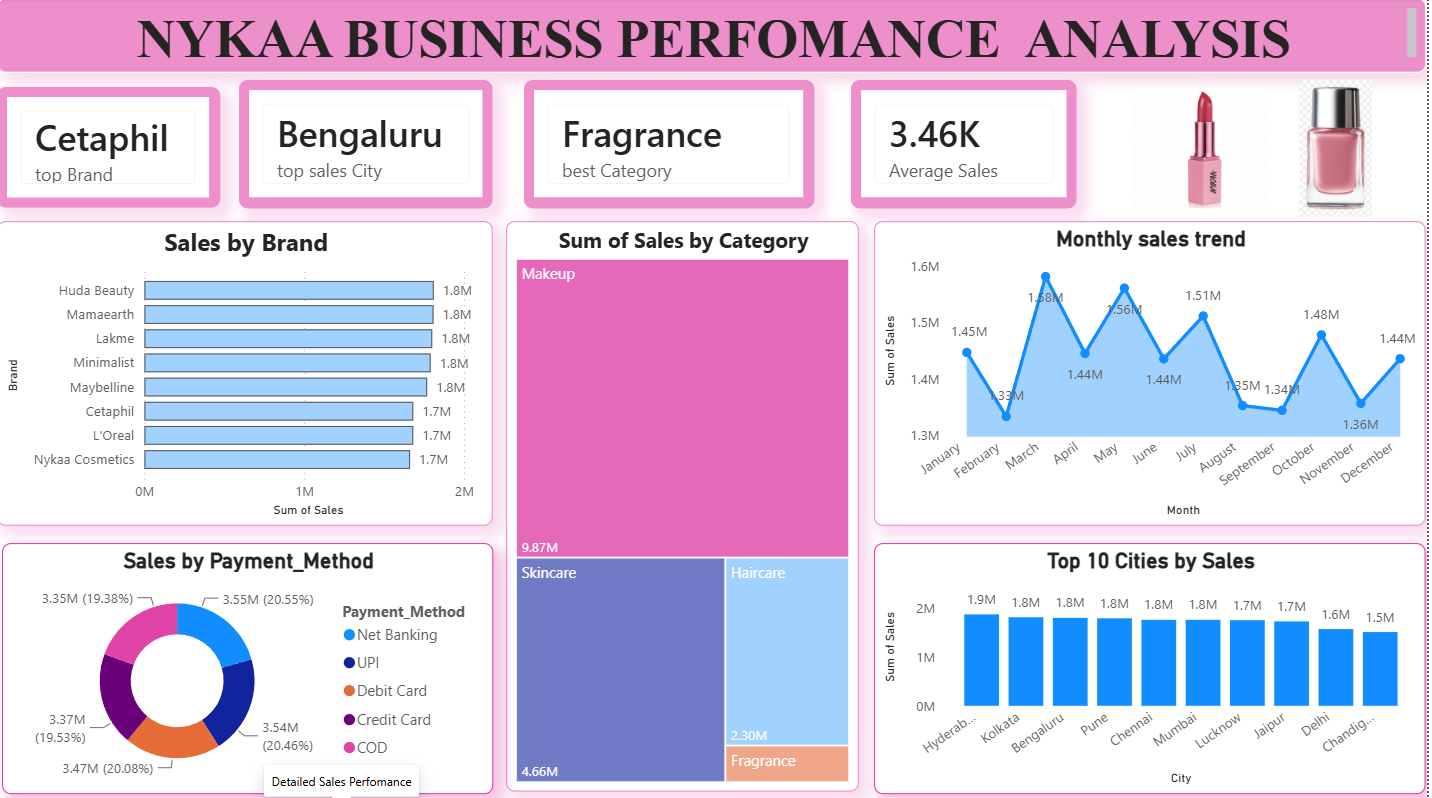

Layout of this report page (visuals, bound fields, positions):
{"tool":"powerbi","page":{"name":"Detailed Sales Perfomance","canvas":[1280,720],"ordinal":1},"visuals":[{"type":"textbox","box":[0,0,1279.7,67.2],"z":0},{"type":"cardVisual","fields":{"Data":["Min(Sales.Brand)"]},"box":[0,79.7,199.7,108.4],"z":1000},{"type":"cardVisual","fields":{"Data":["Min(Sales.City)"]},"box":[216.7,73.4,227.5,114.6],"z":2000},{"type":"cardVisual","fields":{"Data":["Min(Sales.Category)"]},"box":[471.9,73.4,259.7,114.6],"z":3000},{"type":"cardVisual","fields":{"Data":["Avg(Sales.Sales)"]},"box":[764.8,73.4,202.4,114.6],"z":4000},{"type":"clusteredBarChart","title":" Sales by Brand","fields":{"Category":["Sales.Brand"],"Y":["Sum(Sales.Sales)"]},"box":[0,199.7,444.2,273.1],"z":5000},{"type":"treemap","fields":{"Group":["Sales.Category"],"Values":["Sum(Sales.Sales)"]},"box":[455.8,199.7,316.1,511.3],"z":6000},{"type":"lineChart","title":" Monthly sales trend ","fields":{"Category":["Sales.Month"],"Y":["Sum(Sales.Sales)"]},"box":[785.4,199.7,494.3,273.1],"z":7000},{"type":"clusteredColumnChart","title":"Top 10 Cities by Sales","fields":{"Category":["Sales.City"],"Y":["Sum(Sales.Sales)"]},"box":[785.4,488.1,494.3,224.8],"z":8000},{"type":"donutChart","title":"Sales by Payment_Method","fields":{"Category":["Sales.Payment_Method"],"Y":["Sum(Sales.Sales)"]},"box":[4.5,488.1,439.7,224.8],"z":9000},{"type":"image","box":[1017.3,66.3,120,136.1],"z":10000},{"type":"image","box":[1137.3,73.4,122.7,121.8],"z":11000}]}

Visuals, with their boxes in screenshot pixels (x1, y1, x2, y2), scaled from the page's 1280x720 canvas onto the 1432x798 screenshot:
textbox: crop(0, 0, 1431, 74)
cardVisual - Min(Sales.Brand): crop(0, 88, 223, 208)
cardVisual - Min(Sales.City): crop(242, 81, 497, 208)
cardVisual - Min(Sales.Category): crop(528, 81, 818, 208)
cardVisual - Avg(Sales.Sales): crop(856, 81, 1082, 208)
" Sales by Brand" clusteredBarChart: crop(0, 221, 497, 524)
treemap - Sales.Category x Sum(Sales.Sales): crop(510, 221, 864, 788)
" Monthly sales trend " lineChart: crop(879, 221, 1431, 524)
"Top 10 Cities by Sales" clusteredColumnChart: crop(879, 541, 1431, 790)
"Sales by Payment_Method" donutChart: crop(5, 541, 497, 790)
image: crop(1138, 73, 1272, 224)
image: crop(1272, 81, 1410, 216)
